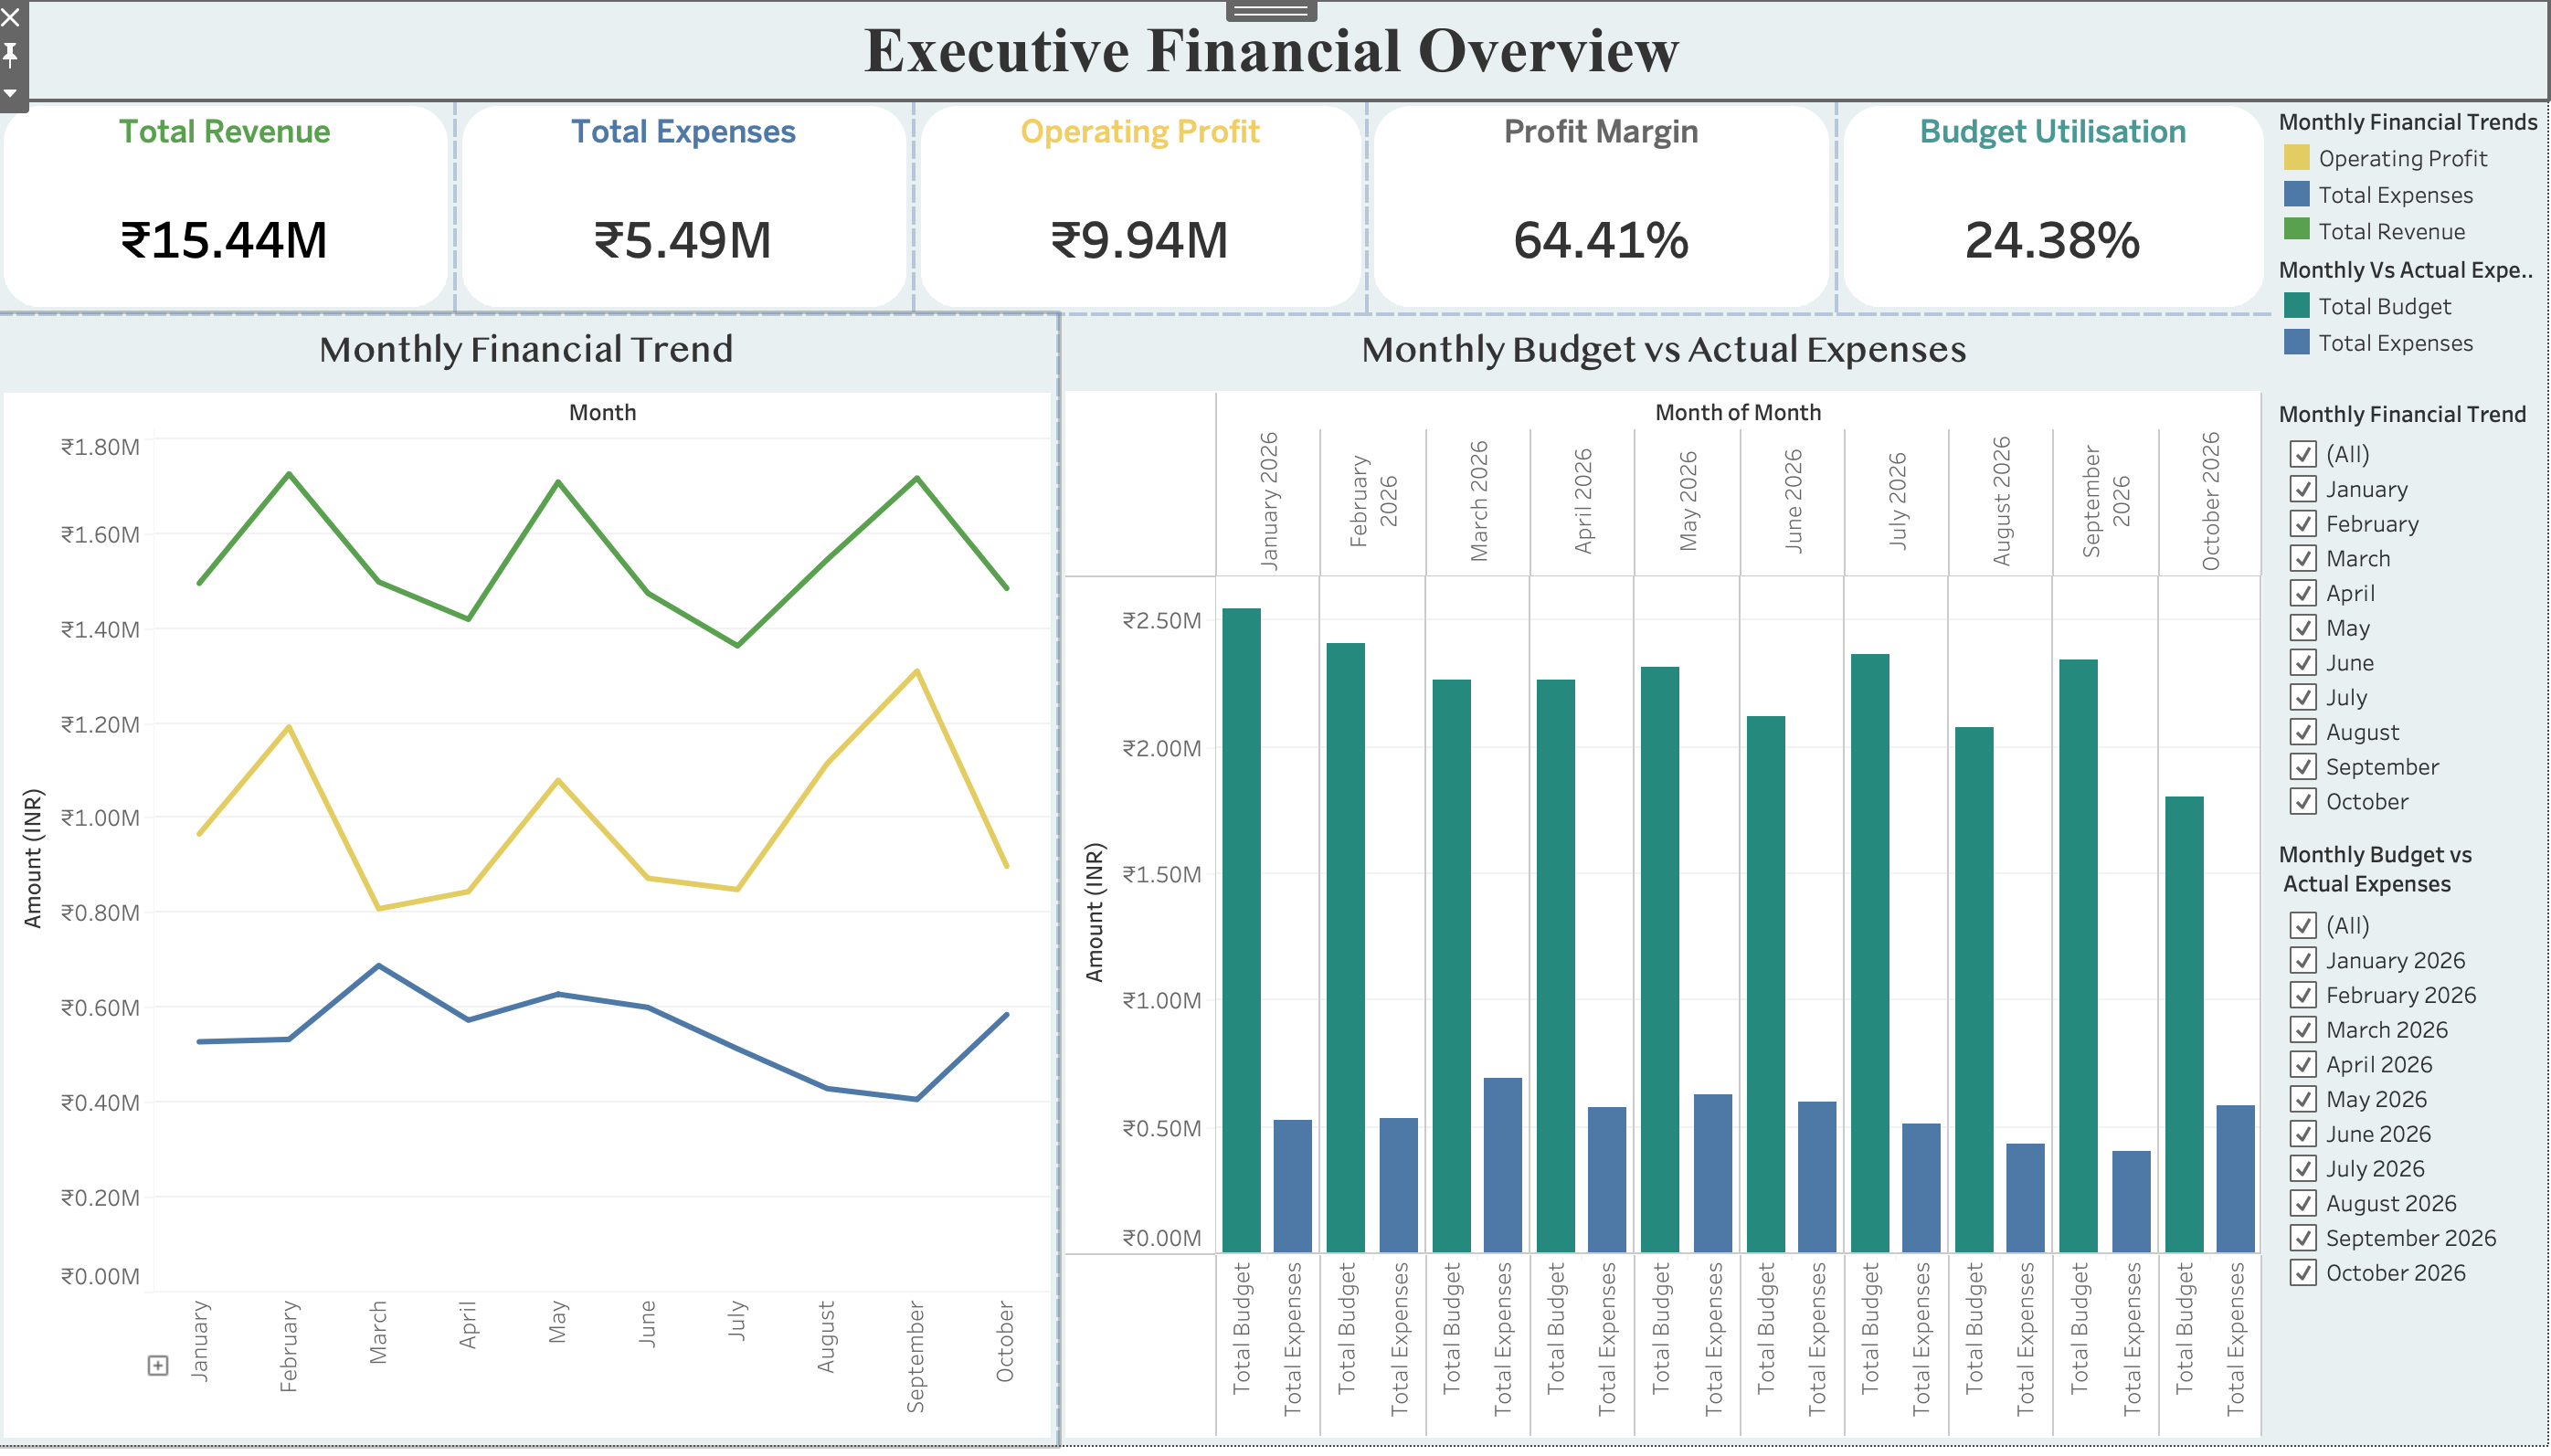

The dashboard page shown, as its layout file describes it:
{"tool":"tableau","page":{"name":"Executive Financial Overview Dashboard","canvas":[1000,1000],"units":"permille","ordinal":1},"visuals":[{"type":"title","box":[6.4,11.1,987.3,65.6]},{"type":"worksheet","title":"KPI – Total Revenue","mark":"Automatic","box":[6.4,76.7,177.4,146]},{"type":"worksheet","title":"KPI - Total Expenses","mark":"Automatic","box":[183.7,76.7,177.4,146]},{"type":"worksheet","title":"KPI - Operating Profit","mark":"Automatic","box":[361.2,76.7,175.8,146]},{"type":"worksheet","title":"KPI - Profit Margin","mark":"Automatic","box":[536.9,76.7,181.6,146]},{"type":"worksheet","title":"KPI - Budget Utilisation","mark":"Automatic","box":[718.5,76.7,168.3,146]},{"type":"legend","title":"Monthly Financial Trend","param":"[federated.0x2659k0ff4l1j14x6j0117dg34m].[:Measure Names]","box":[886.8,76.7,106.8,100.2]},{"type":"legend","title":"Budget vs Actual","param":"[federated.0x2659k0ff4l1j14x6j0117dg34m].[:Measure Names]","box":[886.8,177,106.8,97.8]},{"type":"worksheet","title":"Monthly Financial Trend","mark":"Line","cols":["month"],"box":[6.4,222.8,410.7,766.1]},{"type":"worksheet","title":"Budget vs Actual","mark":"Bar","cols":["month"],"box":[417.1,222.8,469.8,766.1]},{"type":"filter","title":"Monthly Financial Trend","param":"[federated.0x2659k0ff4l1j14x6j0117dg34m].[mn:month:ok]","box":[886.8,274.8,106.8,298.3]},{"type":"filter","title":"Budget vs Actual","param":"[federated.0x2659k0ff4l1j14x6j0117dg34m].[tmn:month:ok]","box":[886.8,573,106.8,319.3]}]}

Visuals, with their boxes on the dashboard's canvas, which has no fixed pixel size, in thousandths of its width and height (x1, y1, x2, y2). These are canvas units, not pixel positions in the 2551x1456 screenshot, which may show the page scaled, cropped or inside an application window:
title: (left=6, top=11, right=994, bottom=77)
"KPI – Total Revenue" worksheet: (left=6, top=77, right=184, bottom=223)
"KPI - Total Expenses" worksheet: (left=184, top=77, right=361, bottom=223)
"KPI - Operating Profit" worksheet: (left=361, top=77, right=537, bottom=223)
"KPI - Profit Margin" worksheet: (left=537, top=77, right=718, bottom=223)
"KPI - Budget Utilisation" worksheet: (left=718, top=77, right=887, bottom=223)
"Monthly Financial Trend" legend: (left=887, top=77, right=994, bottom=177)
"Budget vs Actual" legend: (left=887, top=177, right=994, bottom=275)
"Monthly Financial Trend" worksheet (Line marks): (left=6, top=223, right=417, bottom=989)
"Budget vs Actual" worksheet (Bar marks): (left=417, top=223, right=887, bottom=989)
"Monthly Financial Trend" filter: (left=887, top=275, right=994, bottom=573)
"Budget vs Actual" filter: (left=887, top=573, right=994, bottom=892)
